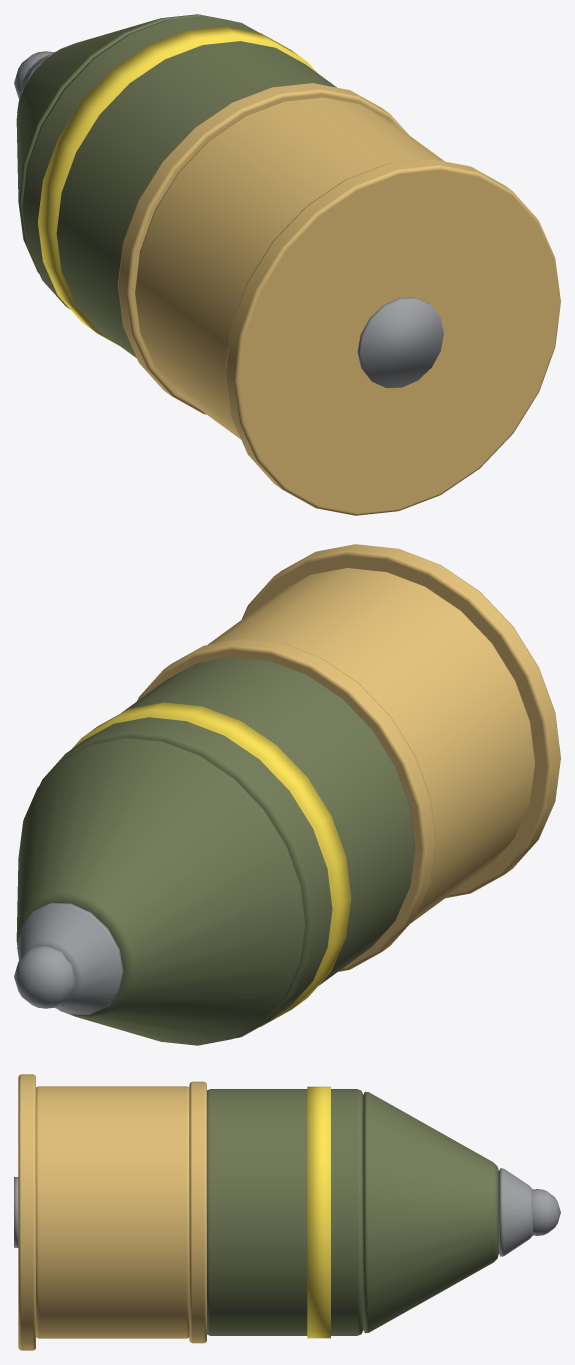
The model's file is grenade.glb.
The picture shows the model from 3 angles, top to bottom: view 1: azimuth 30°, elevation 25°; view 2: azimuth 150°, elevation 25°; view 3: azimuth 270°, elevation 25°; orthographic projection. The views are drawn at different scales.
Parts seen in each view (by area): view 1: g_rim, g_case, g_body, g_band, g_drive, g_primer, g_ogive; view 2: g_ogive, g_case, g_body, g_rim, g_drive, g_band, g_fuze, g_tip; view 3: g_case, g_body, g_ogive, g_band, g_rim, g_drive, g_fuze, g_tip, g_primer.
Part boxes in pixels (left/top/right/bottom): g_rim: left=225, top=159, right=560, bottom=515; g_case: left=135, top=97, right=444, bottom=439; g_body: left=21, top=16, right=336, bottom=358; g_band: left=38, top=26, right=316, bottom=345; g_drive: left=117, top=83, right=408, bottom=414; g_primer: left=357, top=297, right=443, bottom=388; g_ogive: left=16, top=14, right=231, bottom=273; g_ogive: left=16, top=737, right=306, bottom=1045; g_case: left=208, top=568, right=535, bottom=923; g_body: left=40, top=657, right=415, bottom=1038; g_rim: left=241, top=544, right=560, bottom=898; g_drive: left=137, top=638, right=435, bottom=971; g_band: left=72, top=702, right=351, bottom=1026; g_fuze: left=17, top=902, right=123, bottom=1014; g_tip: left=14, top=946, right=75, bottom=1008; g_case: left=36, top=1086, right=189, bottom=1338; g_body: left=207, top=1089, right=363, bottom=1335; g_ogive: left=363, top=1091, right=498, bottom=1333; g_band: left=307, top=1086, right=330, bottom=1338; g_rim: left=18, top=1074, right=35, bottom=1350; g_drive: left=189, top=1081, right=206, bottom=1343; g_fuze: left=499, top=1168, right=533, bottom=1256; g_tip: left=532, top=1189, right=560, bottom=1235; g_primer: left=14, top=1177, right=18, bottom=1247.
Bounding box in the file's own units: 0.094 × 0.094 × 0.1855.
